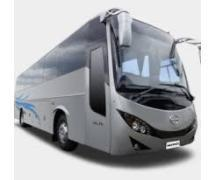bus: (17, 9, 198, 164)
